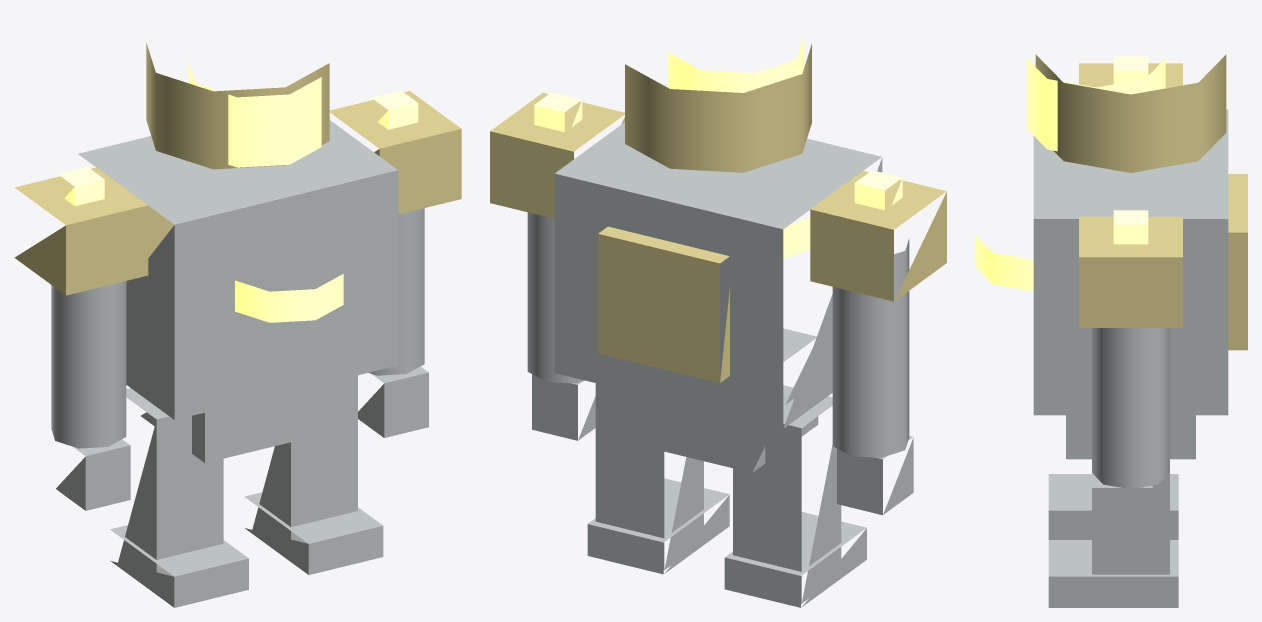
The model's file is golem_luminous.glb.
3 renders of one model, left to right at view 1: azimuth 30°, elevation 25°; view 2: azimuth 150°, elevation 25°; view 3: azimuth 270°, elevation 25°, orthographic. The views are drawn at different scales.
Visible parts, largest first — view 1: LuminousChrome, LuminousGold, LuminousGlow; view 2: LuminousChrome, LuminousGold, LuminousGlow; view 3: LuminousChrome, LuminousGold, LuminousGlow.
Boxes of the visible parts, bbox=[...] form: LuminousChrome: bbox=[51, 120, 428, 607]; LuminousGold: bbox=[14, 43, 461, 295]; LuminousGlow: bbox=[58, 62, 418, 322]; LuminousChrome: bbox=[527, 122, 913, 607]; LuminousGold: bbox=[490, 44, 946, 382]; LuminousGlow: bbox=[534, 38, 902, 258]; LuminousChrome: bbox=[1033, 109, 1228, 607]; LuminousGold: bbox=[1035, 54, 1247, 350]; LuminousGlow: bbox=[975, 56, 1165, 291].
Bounding box in the file's own units: 1.06 × 1.28 × 0.63.
